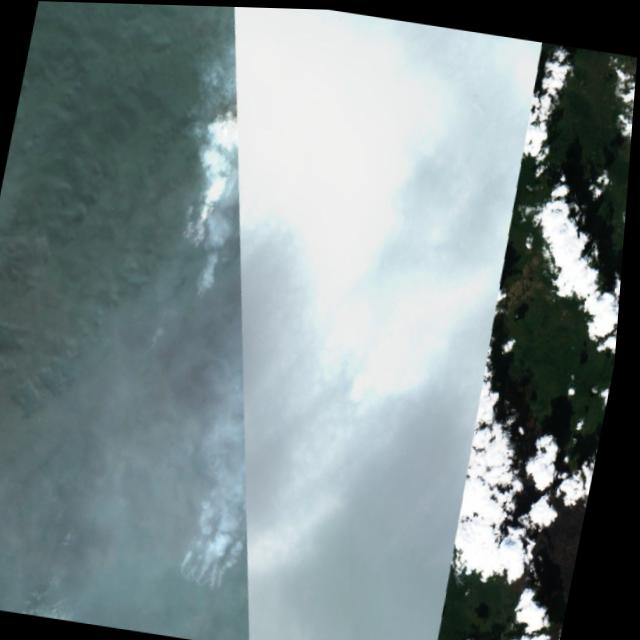fire: (169, 90, 335, 302), (175, 482, 287, 602), (326, 357, 390, 439)
